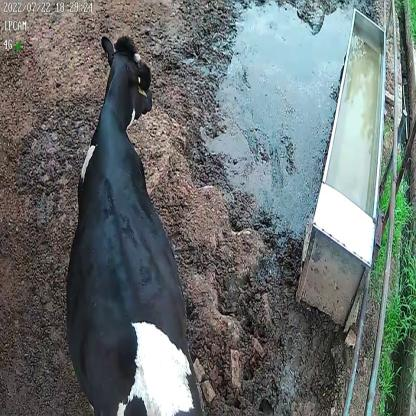cow: (64, 30, 205, 416)
